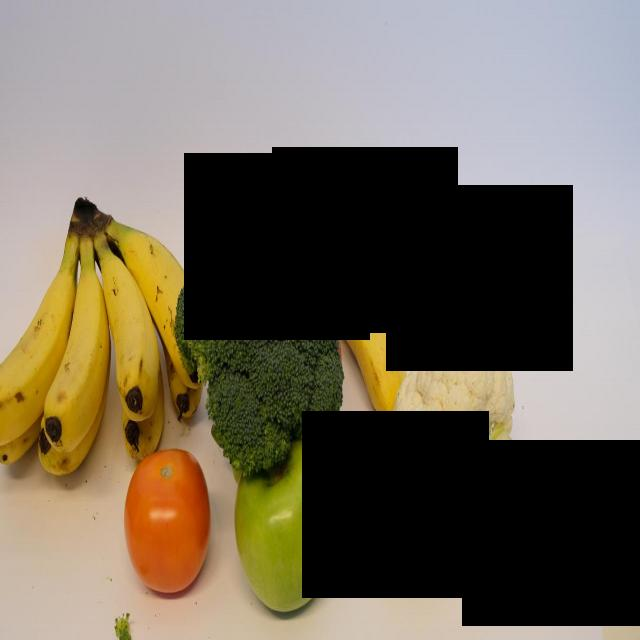apple: (232, 415, 344, 618)
banana: (304, 230, 410, 428), (120, 212, 204, 392), (0, 256, 80, 442), (37, 266, 110, 444), (94, 248, 162, 410)
broccoli: (170, 189, 350, 466)
cauliflower: (364, 321, 522, 595)
tomato: (121, 431, 217, 600)
